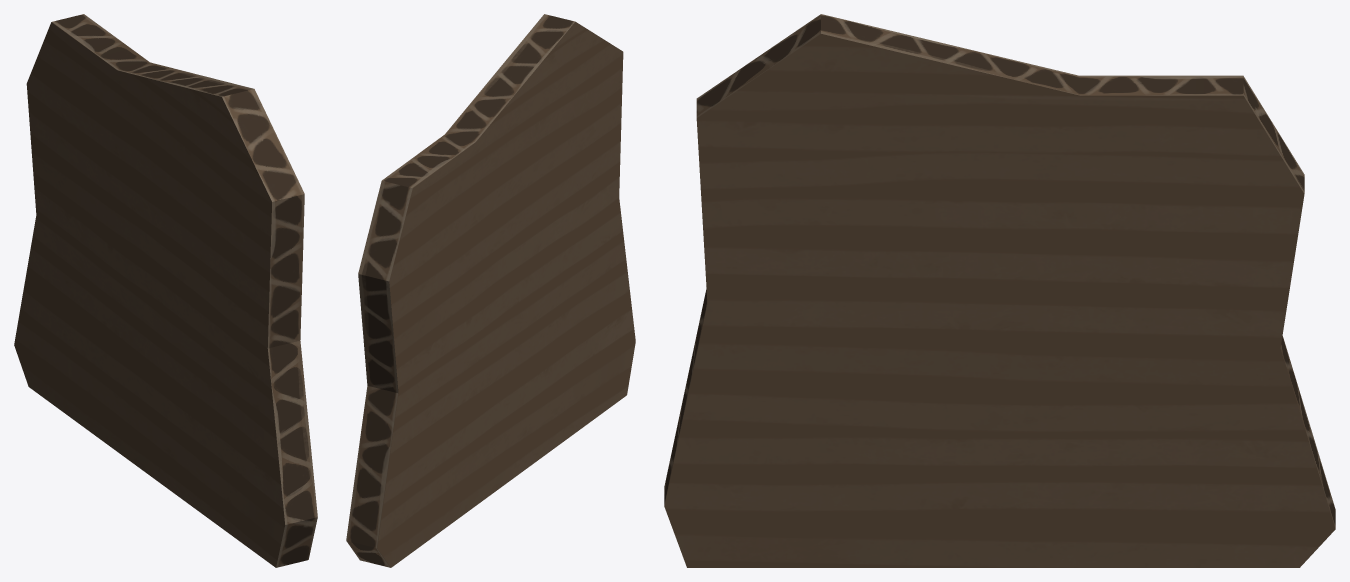
File: crowd3.fbx
The picture shows the model from 3 angles, left to right: view 1: azimuth 30°, elevation 25°; view 2: azimuth 150°, elevation 25°; view 3: azimuth 270°, elevation 25°; orthographic projection. The views are drawn at different scales.
Parts seen in each view (by area): view 1: pCube3; view 2: pCube3; view 3: pCube3.
Boxes of the visible parts, box(x1,y1,x2,y2) form: pCube3: box(14, 14, 317, 567); pCube3: box(346, 14, 635, 567); pCube3: box(664, 14, 1335, 567).
Size of the model in its own units: 0.1847 by 2.33 by 2.65.
1 material, 1 textured.
